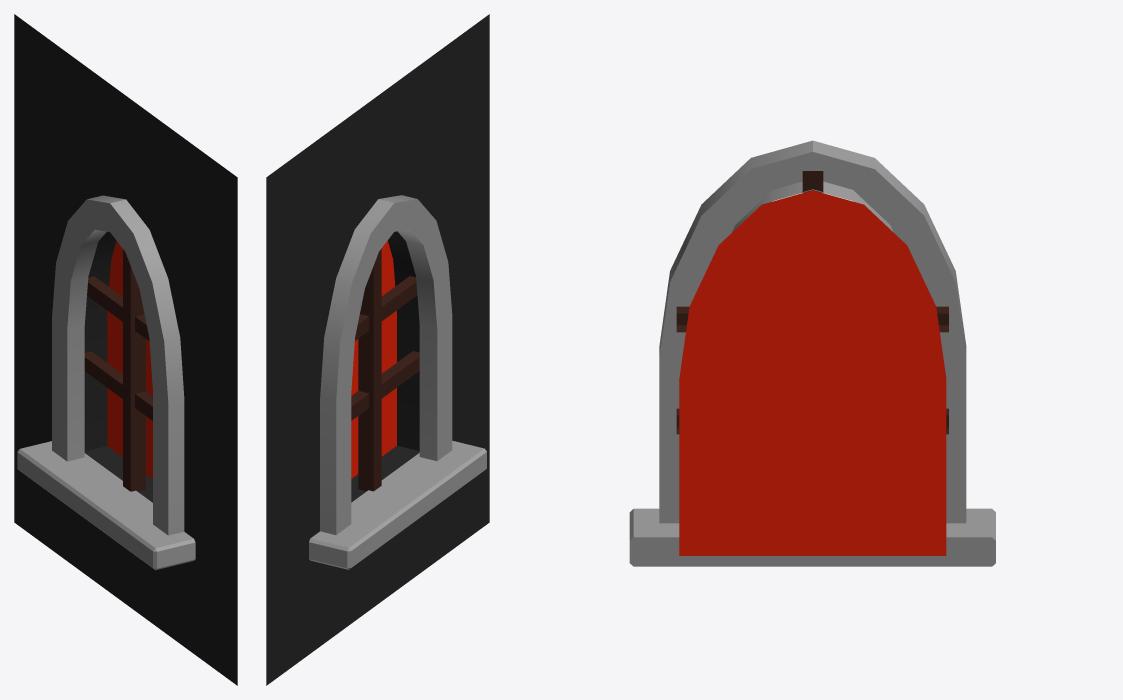
The model's file is standard_window_21.FBX.
3 views of the same model, side by side, from view 1: azimuth 30°, elevation 25°; view 2: azimuth 150°, elevation 25°; view 3: azimuth 270°, elevation 25° (orthographic). The views are drawn at different scales.
Visible parts, largest first — view 1: standard_window_21; view 2: standard_window_21; view 3: standard_window_21.
Boxes of the visible parts, x1,y1,x2,y2 form: standard_window_21: [14, 14, 237, 685]; standard_window_21: [266, 14, 489, 685]; standard_window_21: [629, 140, 995, 566].
Size of the model in its own units: 82.68 by 554 by 441.
